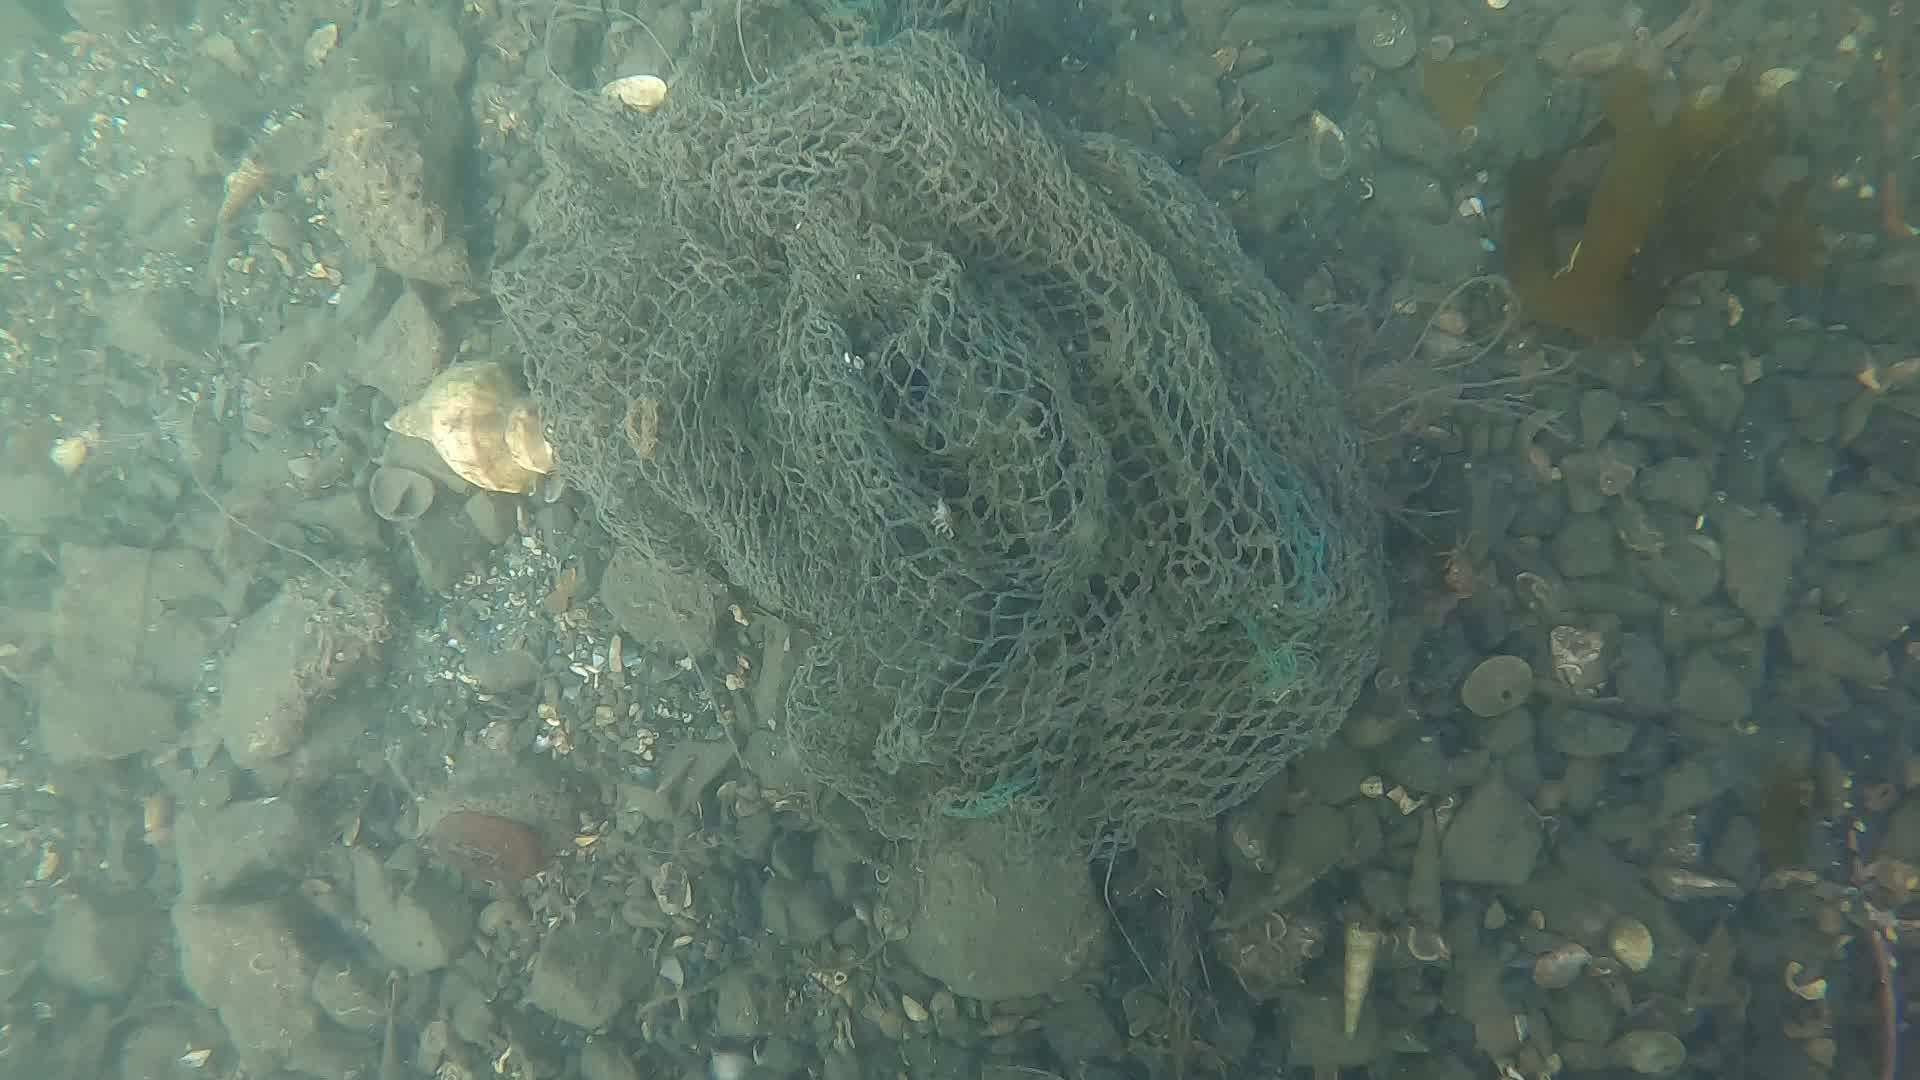fish net: (492, 26, 1390, 829)
